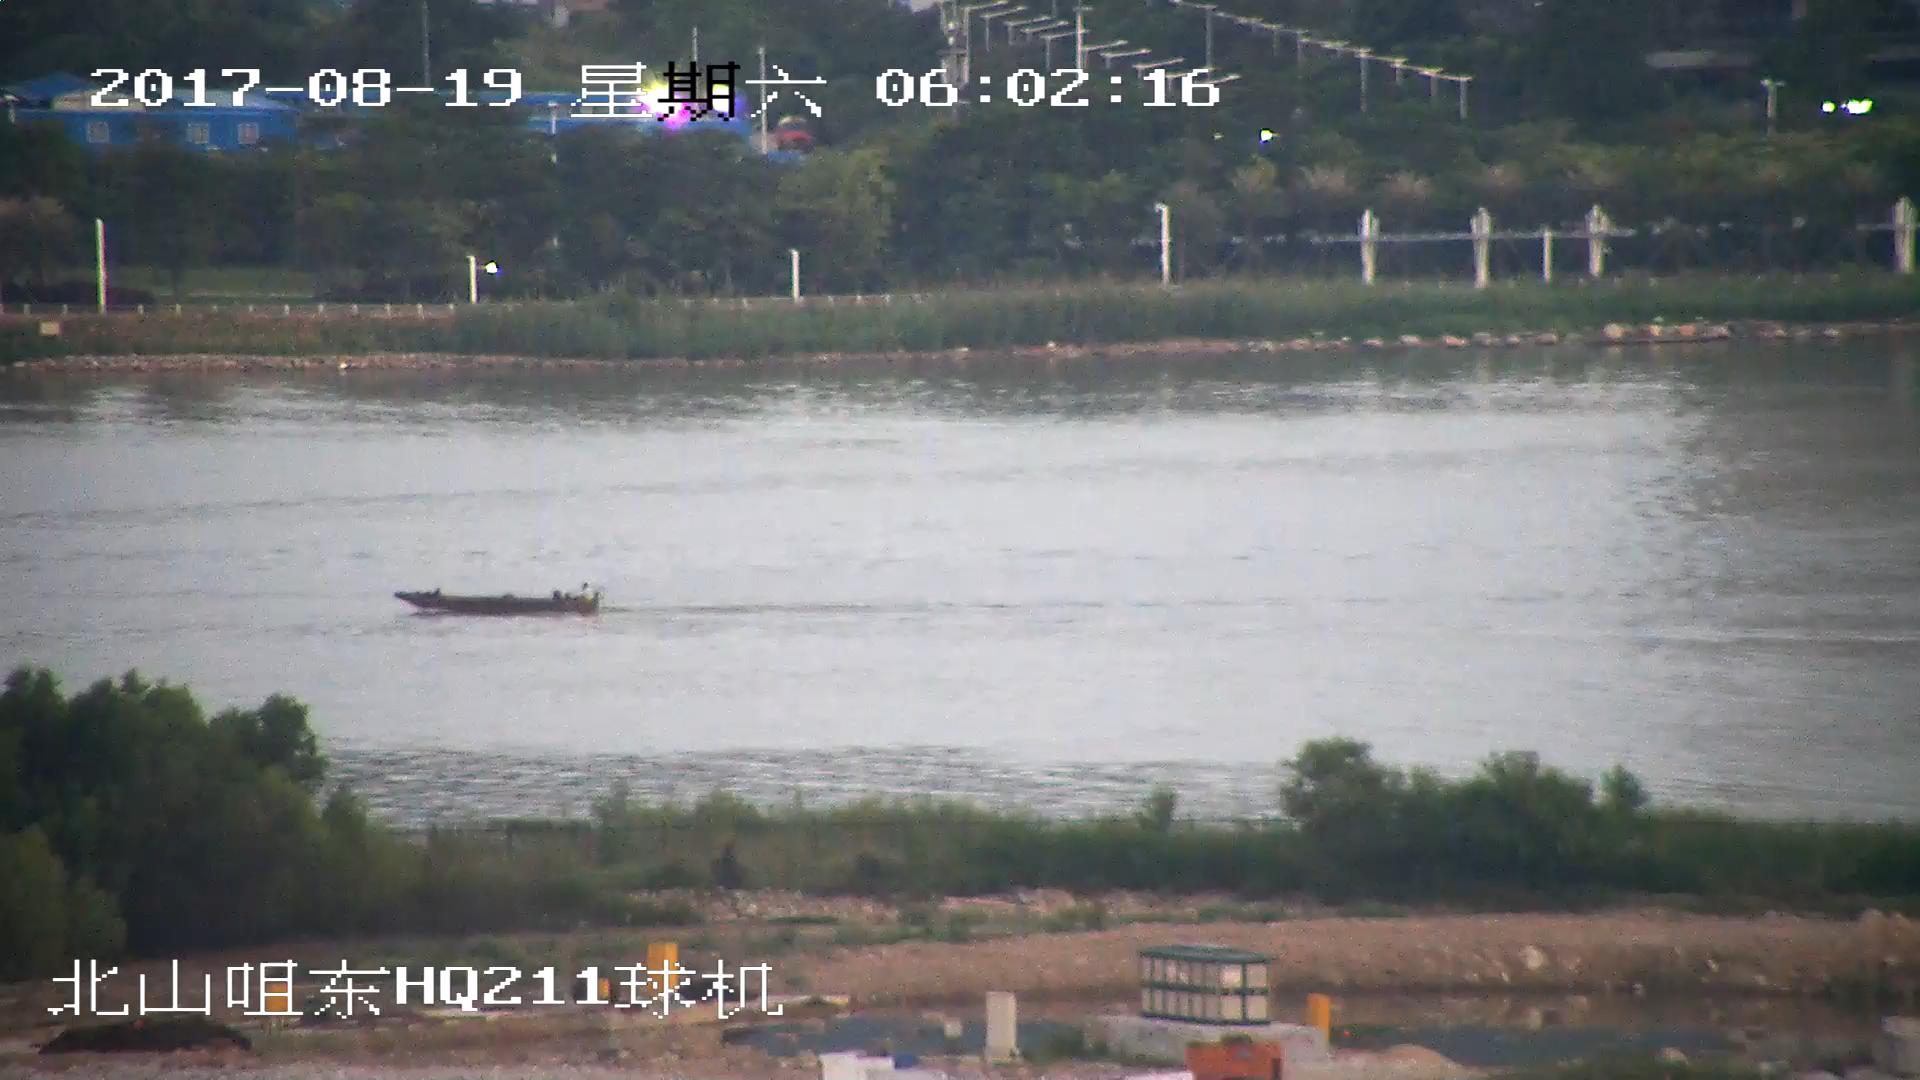fishing boat: (394, 581, 604, 618)
